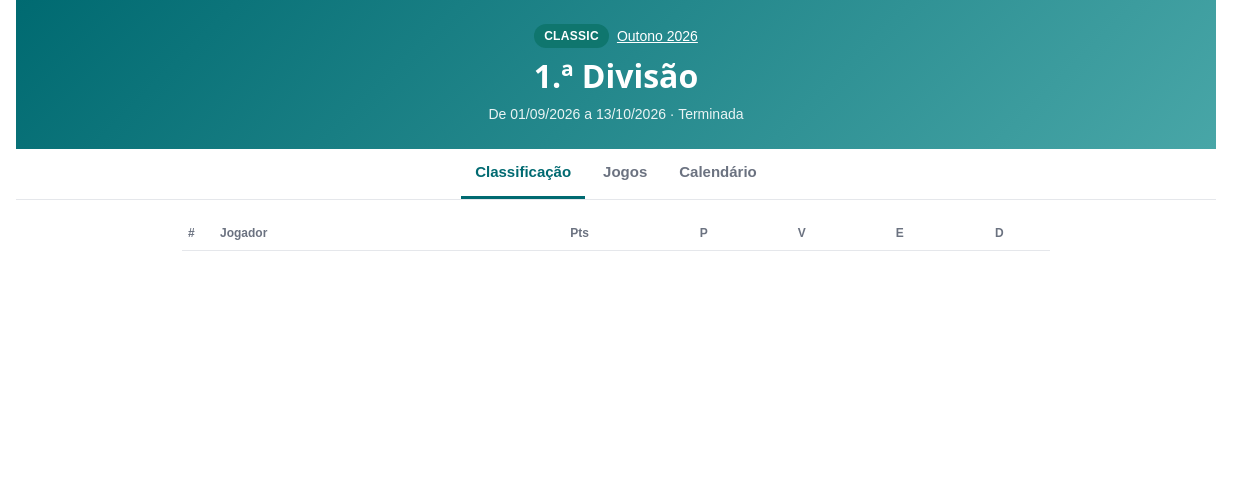
Test: GroupPage Jogos for a visitor › shows the read-only result card: the games as plain boxes, no inputs, no Mais
The image size is (1233, 502).
Click the button "Jogos".
click(625, 174)  # box [589,149,661,198]
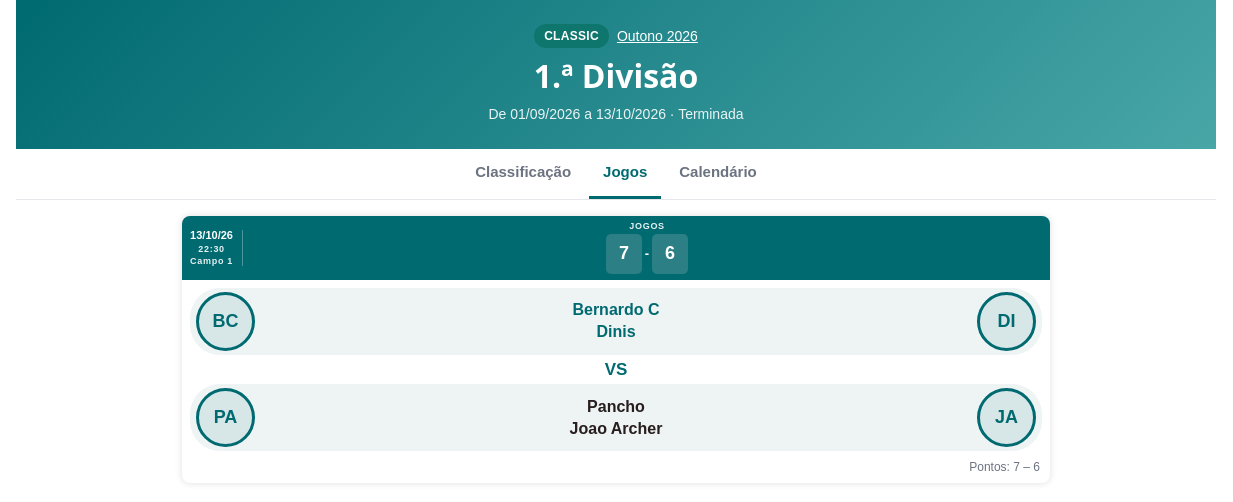
Result: the text named "Jogos casa" reads "7" at [619,243,629,263]
Result: the text "13/10/26" is shown at [190,229,233,242]
Result: the text "22:30" is shown at [198,244,225,254]
